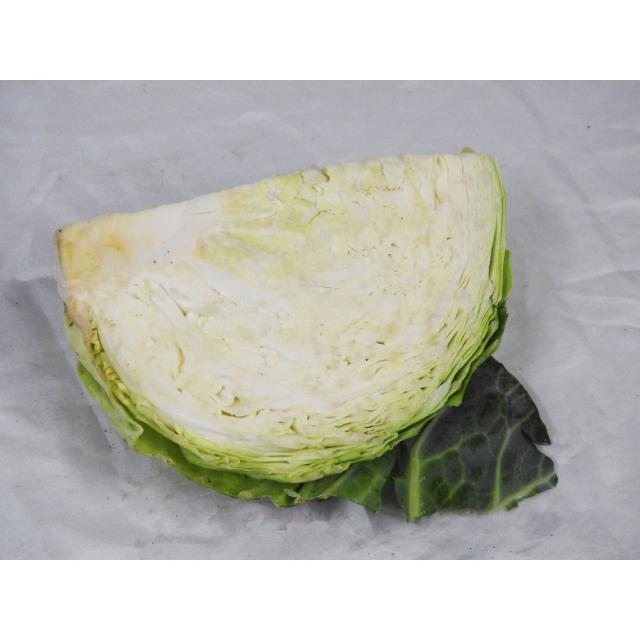haft-cabbage: (54, 156, 512, 487)
